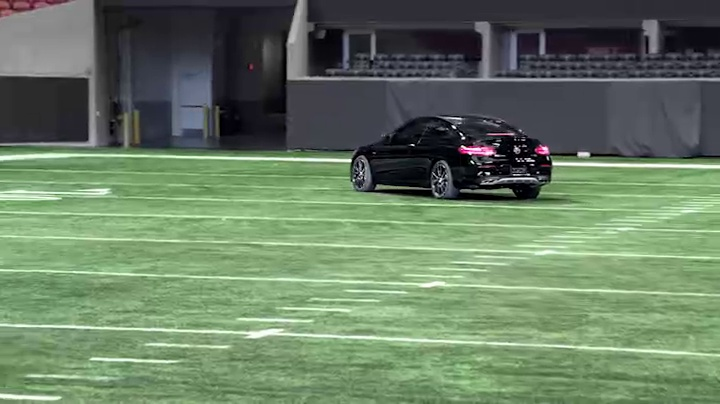amg: (347, 111, 554, 205)
